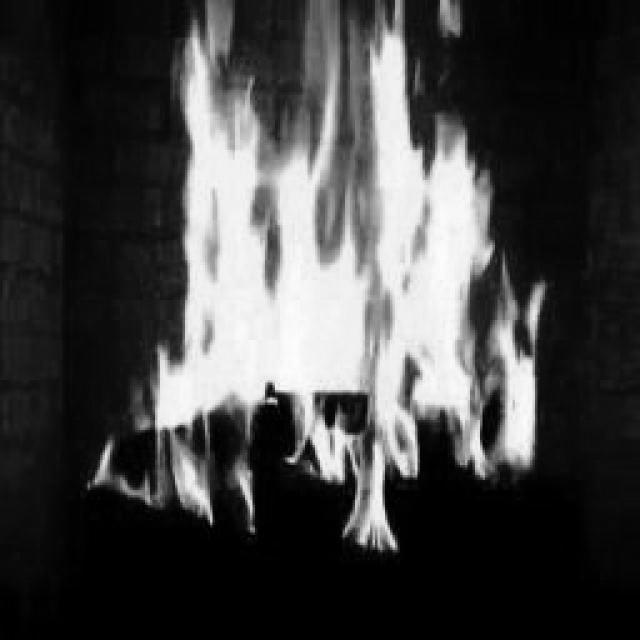Fire: (185, 52, 540, 482)
